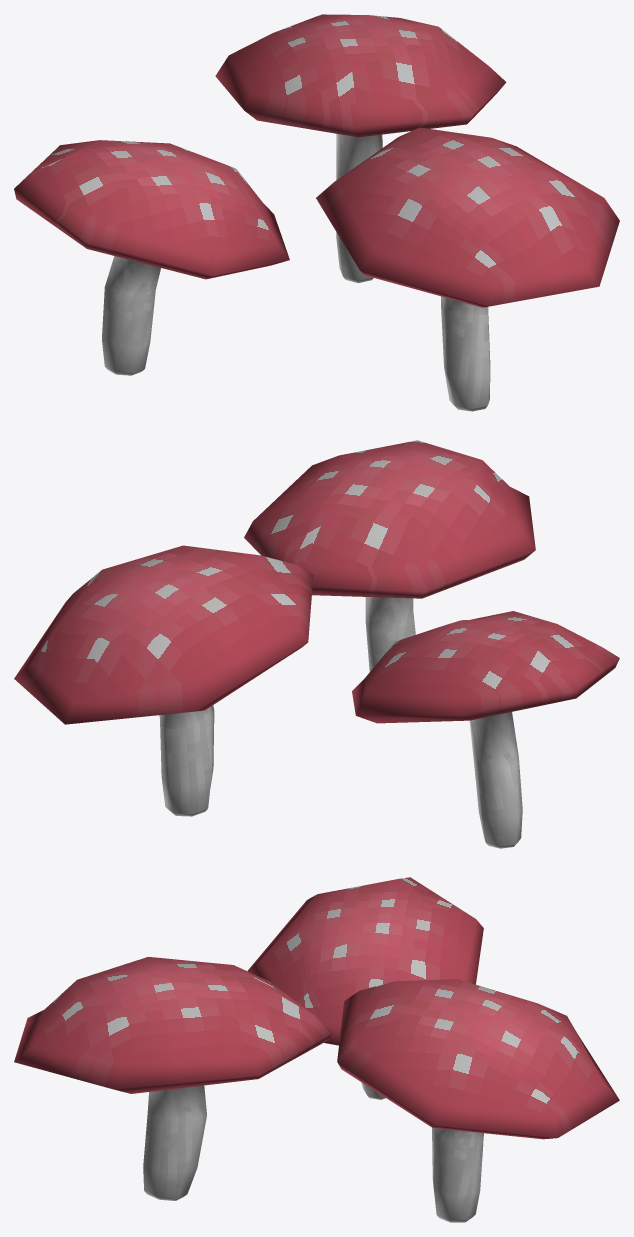
Rendered from MushroomRedCluster.fbx.
3 renders of one model, top to bottom at view 1: azimuth 30°, elevation 25°; view 2: azimuth 150°, elevation 25°; view 3: azimuth 270°, elevation 25°, orthographic. The views are drawn at different scales.
Parts seen in each view (by area): view 1: red_mushroom_cluster; view 2: red_mushroom_cluster; view 3: red_mushroom_cluster.
Part boxes in pixels (x1,y1,x2,y2): red_mushroom_cluster: [14, 14, 619, 411]; red_mushroom_cluster: [14, 440, 619, 848]; red_mushroom_cluster: [14, 877, 619, 1222].
Bounding box in the file's own units: 0.357 × 0.1657 × 0.4135.
